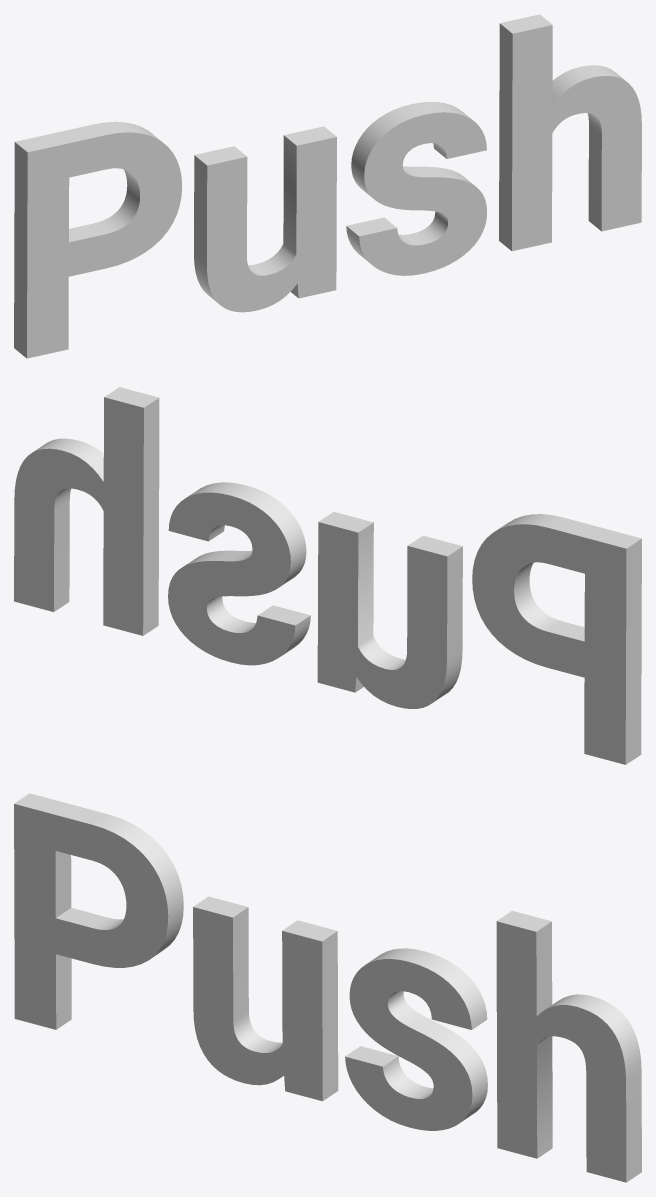
The model's file is push.fbx.
The picture shows the model from 3 angles, top to bottom: view 1: azimuth 30°, elevation 25°; view 2: azimuth 150°, elevation 25°; view 3: azimuth 330°, elevation 25°; orthographic projection. The views are drawn at different scales.
Visible parts, largest first — view 1: node_id33; view 2: node_id33; view 3: node_id33.
Boxes of the visible parts, <box> form: node_id33: <box>14,14,641,358</box>; node_id33: <box>14,387,641,764</box>; node_id33: <box>14,793,641,1182</box>.
Size of the model in its own units: 0.3742 by 0.1314 by 0.0307.
1 material, 1 textured.
